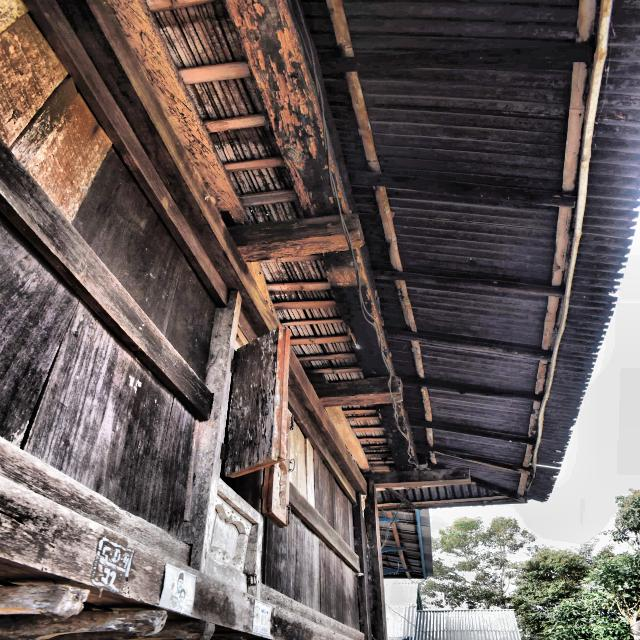roof: (85, 0, 639, 579)
wall: (0, 1, 370, 639)
window: (216, 328, 293, 528)
